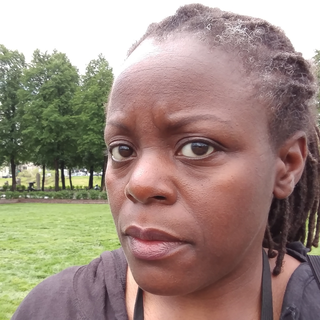eye: (171, 134, 228, 167), (101, 138, 143, 163)
